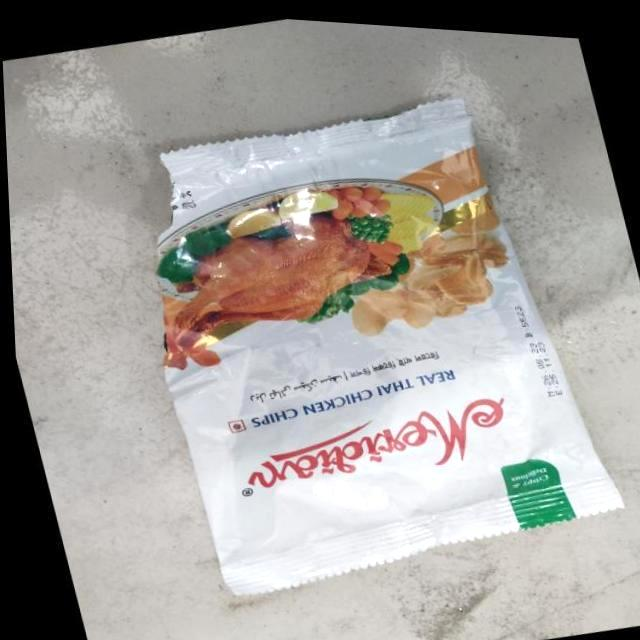packet: (166, 150, 587, 524)
